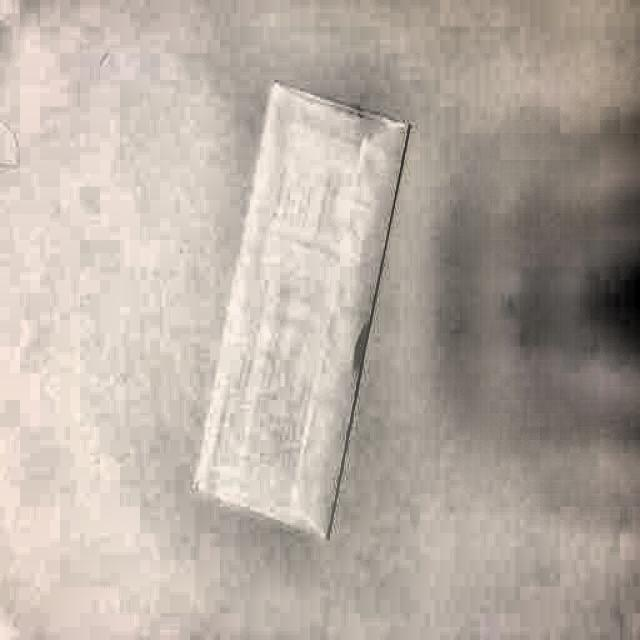paper: (190, 78, 416, 552)
